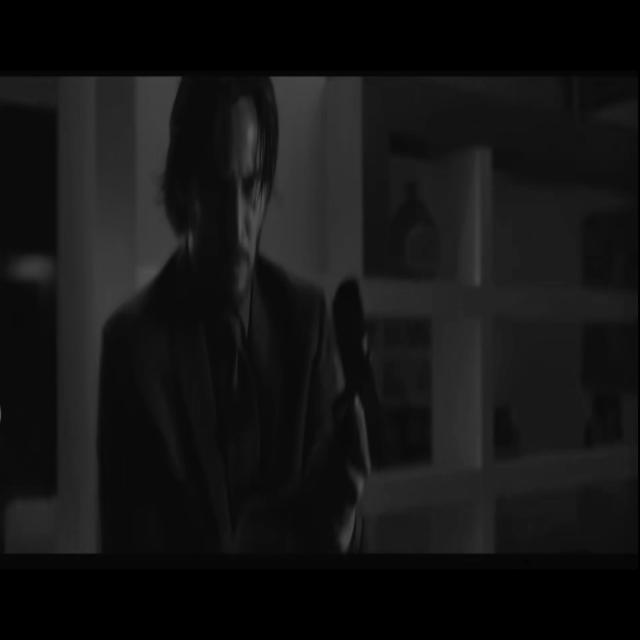weapons: (306, 246, 404, 516)
